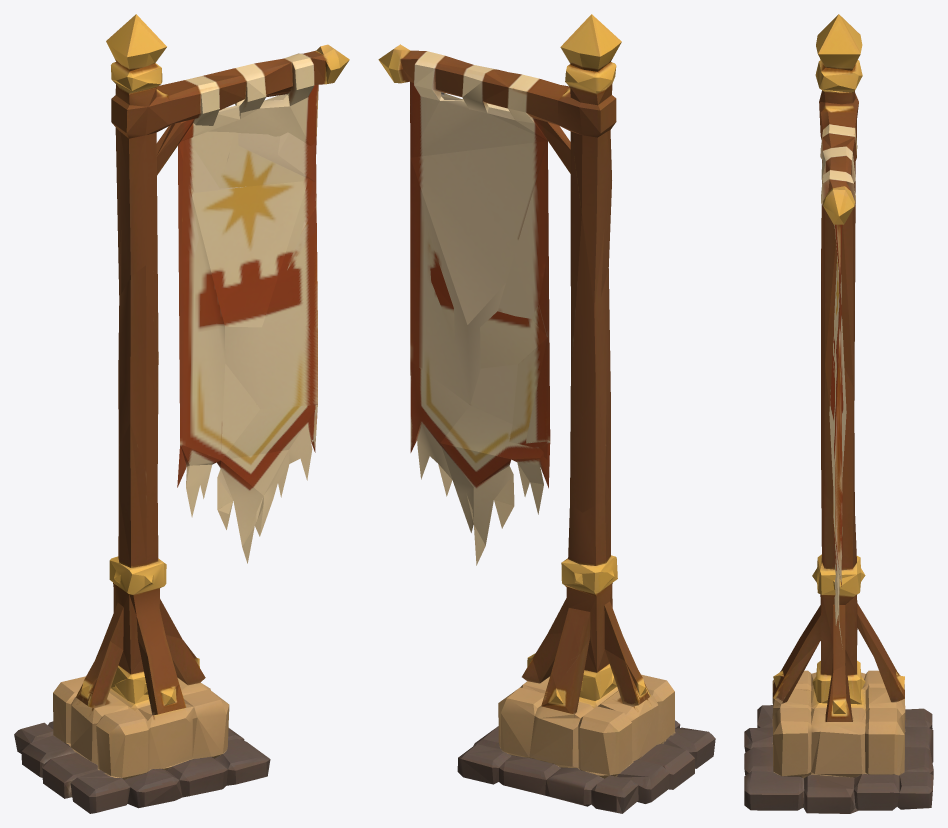
File: TWN_PRP_banner_A.glb
3 renders of one model, left to right at view 1: azimuth 30°, elevation 25°; view 2: azimuth 150°, elevation 25°; view 3: azimuth 270°, elevation 25°, orthographic.
Parts seen in each view (by area): view 1: Mesh_0; view 2: Mesh_0; view 3: Mesh_0.
Boxes of the visible parts, bbox=[...] form: Mesh_0: bbox=[14, 14, 349, 813]; Mesh_0: bbox=[378, 14, 715, 813]; Mesh_0: bbox=[744, 14, 933, 813].
Bounding box in the file's own units: 0.796 × 1.9 × 0.4315.
Materials: 1 (1 with a texture image).
